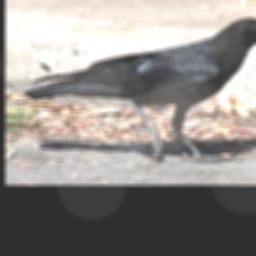Crow: (24, 14, 256, 161)
